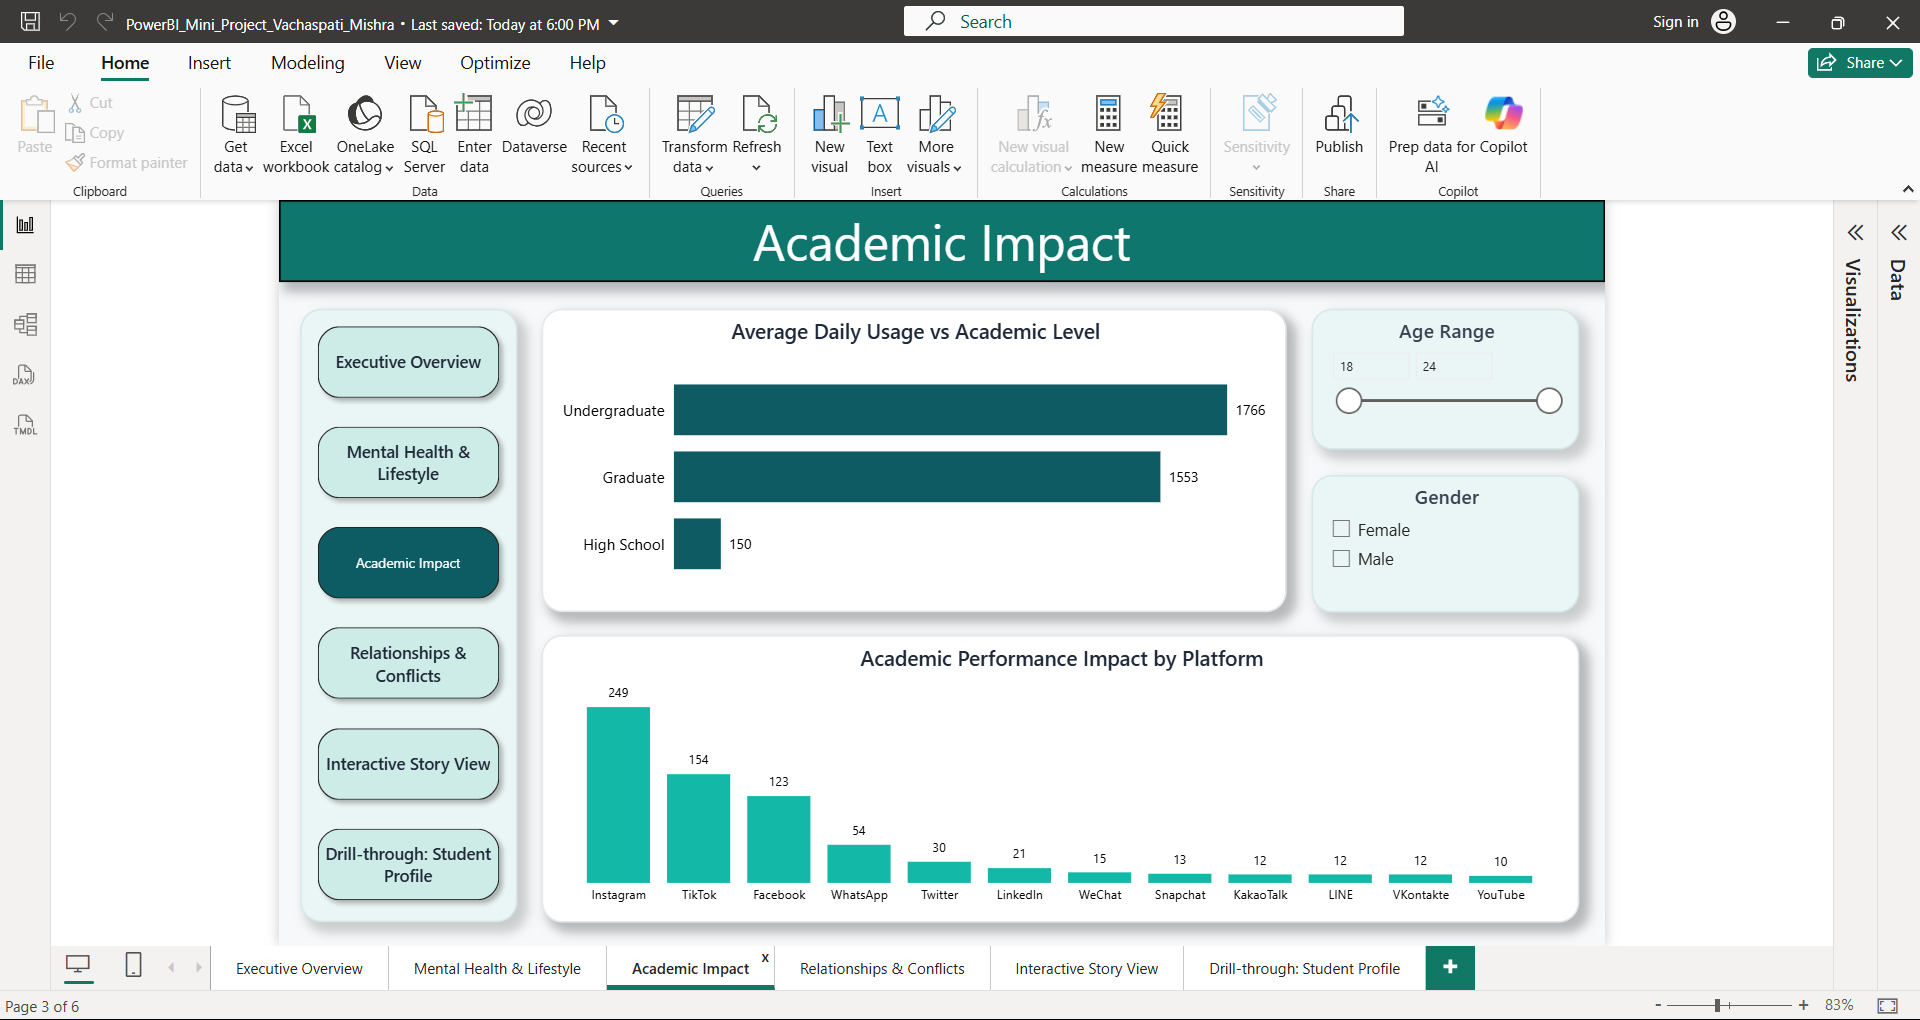

This screenshot's page, from the dashboard's own definition file:
{"tool":"powerbi","page":{"name":"Academic Impact","canvas":[1280,720],"ordinal":2},"visuals":[{"type":"textbox","box":[0,0,1280.3,79.5],"z":0},{"type":"clusteredBarChart","title":"Average Daily Usage vs Academic Level","fields":{"Y":["Sum(Student Details.Platform Details.Avg_Daily_Usage_Hours)"],"Category":["Student Details.Academic_Level"]},"box":[253.4,105,719,293.2],"z":1000},{"type":"clusteredColumnChart","title":"Academic Performance Impact by Platform","fields":{"Category":["Student Details.Platform Details.Most_Used_Platform"],"Y":["CountNonNull(Student Details.Platform Details.Affects_Academic_Performance)"]},"box":[253.4,419.8,1001.3,277.5],"z":2000},{"type":"slicer","title":"Age Range","fields":{"Values":["Student Details.Age"]},"box":[996.5,105,258.2,136.3],"z":3000},{"type":"pageNavigator","box":[20.5,105,209.9,592.4],"z":4000},{"type":"slicer","title":"Gender","fields":{"Values":["Student Details.Gender"]},"box":[996.5,265.4,258.2,132.7],"z":5000}]}

Visuals, with their boxes on the page's 1280x720 design canvas (x1, y1, x2, y2). These are canvas units, not pixel positions in the 1920x1020 screenshot, which may show the page scaled, cropped or inside an application window:
textbox: x1=0, y1=0, x2=1280, y2=80
"Average Daily Usage vs Academic Level" clusteredBarChart: x1=253, y1=105, x2=972, y2=398
"Academic Performance Impact by Platform" clusteredColumnChart: x1=253, y1=420, x2=1255, y2=697
"Age Range" slicer: x1=996, y1=105, x2=1255, y2=241
pageNavigator: x1=20, y1=105, x2=230, y2=697
"Gender" slicer: x1=996, y1=265, x2=1255, y2=398
